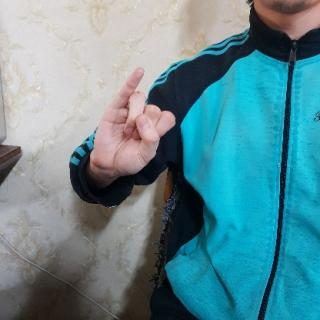MEEM: (88, 64, 181, 177)
